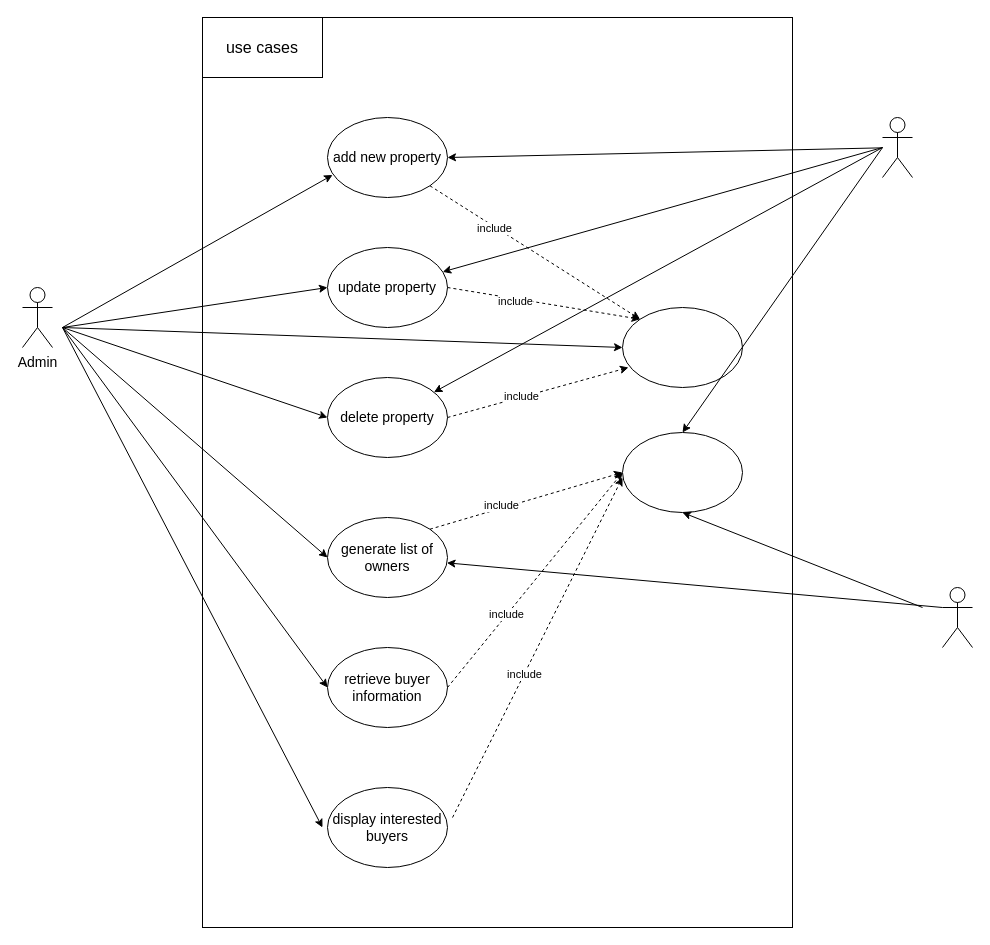
Some shapes in this 990 by 945 pixel diagram are drawn without their labels. Here are the shapes that lost their labels. From the top down, the centre of each, then its label:
point (897, 147): Owner
point (682, 347): save and load data
point (682, 472): search property
point (957, 617): Buyer
